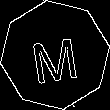M_N: (28, 26, 82, 84)
